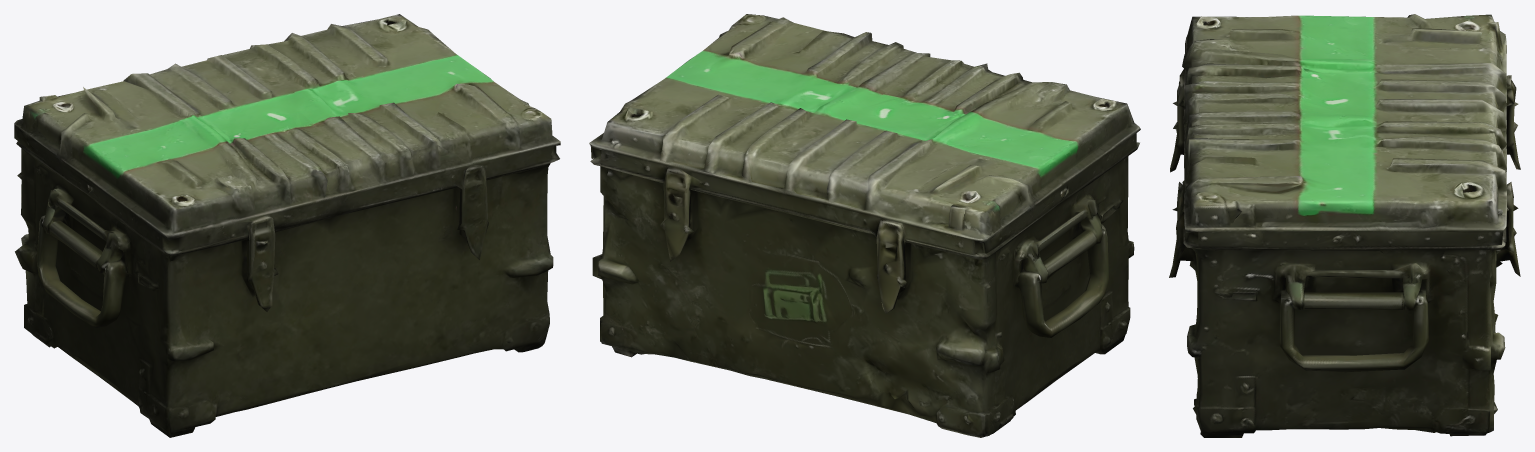
Rendered from xd_crate1.glb.
The picture shows the model from 3 angles, left to right: view 1: azimuth 30°, elevation 25°; view 2: azimuth 150°, elevation 25°; view 3: azimuth 270°, elevation 25°; orthographic projection. The views are drawn at different scales.
Parts seen in each view (by area): view 1: tripo_node_4db09d99-1126-419d-821c-b4a0b98f9357; view 2: tripo_node_4db09d99-1126-419d-821c-b4a0b98f9357; view 3: tripo_node_4db09d99-1126-419d-821c-b4a0b98f9357.
Part boxes in pixels (x1,y1,x2,y2): tripo_node_4db09d99-1126-419d-821c-b4a0b98f9357: (14,14,560,437); tripo_node_4db09d99-1126-419d-821c-b4a0b98f9357: (589,14,1140,437); tripo_node_4db09d99-1126-419d-821c-b4a0b98f9357: (1169,14,1520,437).
Size of the model in its own units: 0.9794 by 0.5237 by 0.6795.
Materials: 1 (1 with a texture image).
